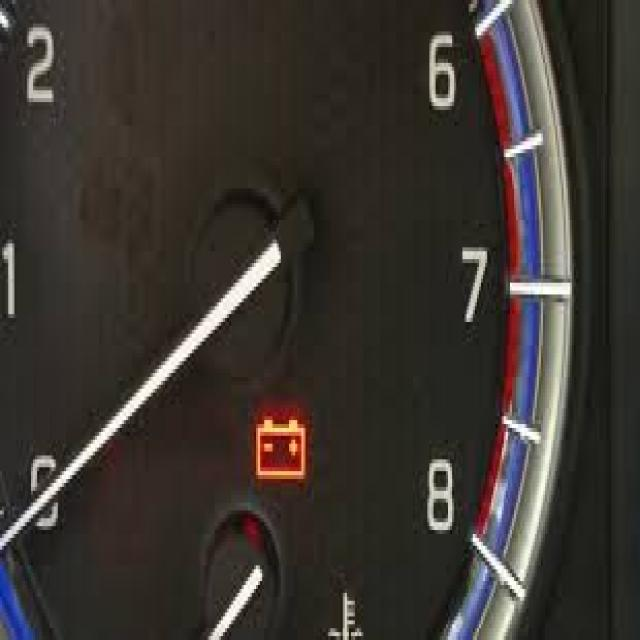kontrolka: (247, 405, 317, 489)
